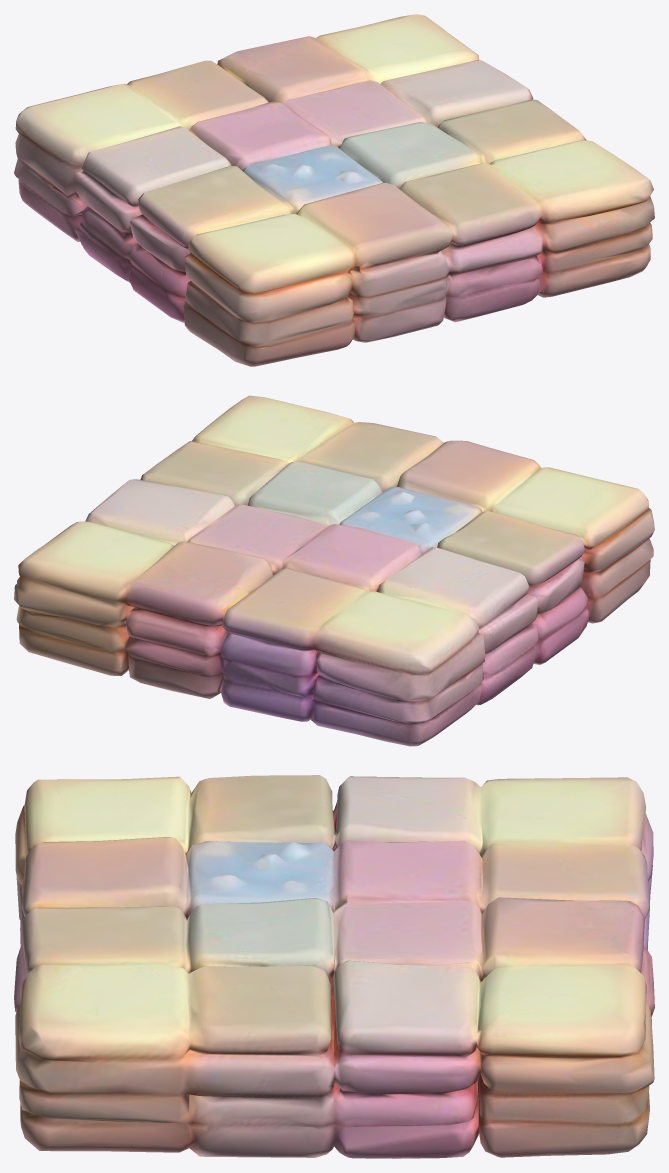
The model's file is dancefloor.glb.
3 renders of one model, top to bottom at view 1: azimuth 30°, elevation 25°; view 2: azimuth 150°, elevation 25°; view 3: azimuth 270°, elevation 25°, orthographic. The views are drawn at different scales.
Parts seen in each view (by area): view 1: tripo_node_88a14421-d563-457c-a9b7-02a6d3ebae28; view 2: tripo_node_88a14421-d563-457c-a9b7-02a6d3ebae28; view 3: tripo_node_88a14421-d563-457c-a9b7-02a6d3ebae28.
Boxes of the visible parts, x1=… form: tripo_node_88a14421-d563-457c-a9b7-02a6d3ebae28: x1=14, y1=14, x2=654, y2=366; tripo_node_88a14421-d563-457c-a9b7-02a6d3ebae28: x1=14, y1=395, x2=654, y2=746; tripo_node_88a14421-d563-457c-a9b7-02a6d3ebae28: x1=14, y1=775, x2=654, y2=1158.
Bounding box in the file's own units: 0.9977 × 0.2512 × 1.
1 material, 1 textured.
